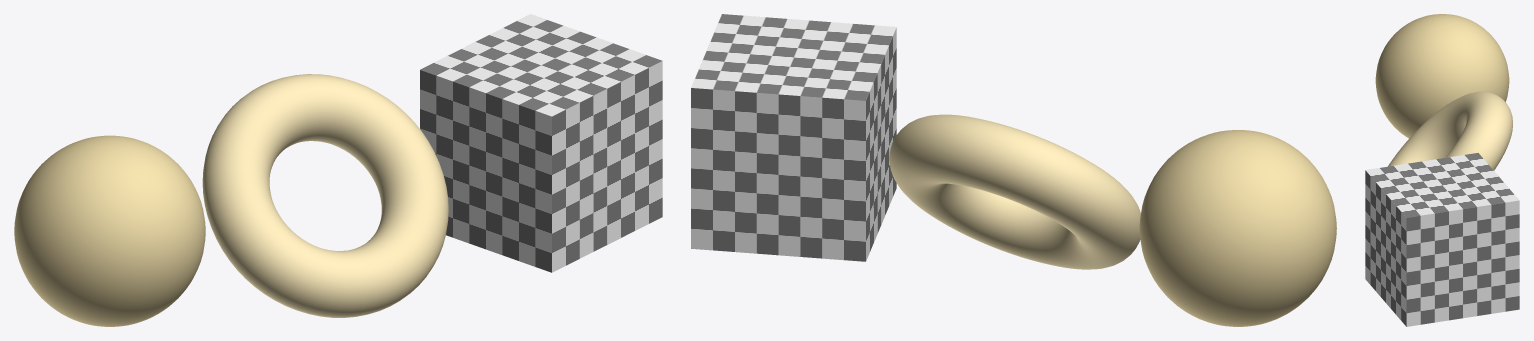
The model's file is genesis_test_scene.gltf.
The picture shows the model from 3 angles, left to right: view 1: azimuth 30°, elevation 25°; view 2: azimuth 150°, elevation 25°; view 3: azimuth 270°, elevation 25°; orthographic projection. The views are drawn at different scales.
Parts seen in each view (by area): view 1: CubeTextured, Torus, Sphere; view 2: CubeTextured, Sphere, Torus; view 3: CubeTextured, Sphere, Torus.
Boxes of the visible parts, box(x1,y1,x2,y2) form: CubeTextured: box(420, 14, 662, 272); Torus: box(202, 74, 448, 317); Sphere: box(14, 135, 205, 326); CubeTextured: box(691, 14, 896, 261); Sphere: box(1139, 130, 1336, 326); Torus: box(889, 114, 1140, 269); CubeTextured: box(1365, 152, 1519, 326); Sphere: box(1375, 14, 1509, 138); Torus: box(1388, 91, 1512, 170).
Bounding box in the file's own units: 7.35 × 2.26 × 2.31.
Materials: 3 (1 with a texture image).
